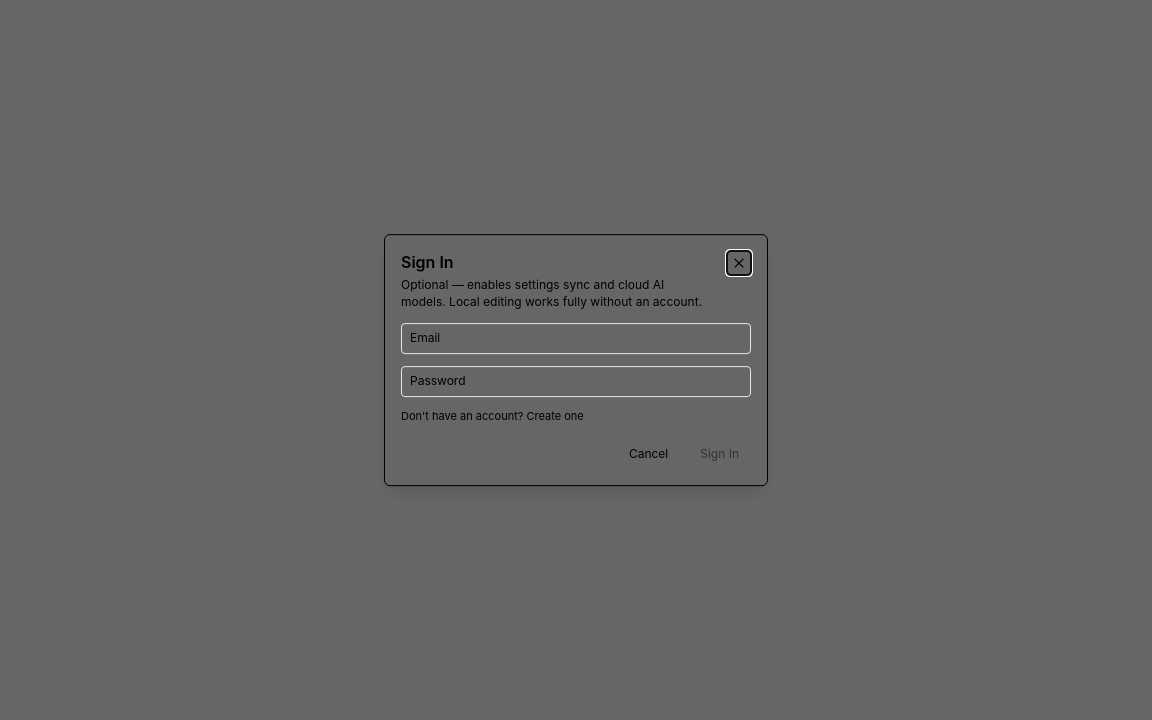
AuthDialog › shows the backend error message and does not close on failed login
In the field with placeholder "Email": (576, 338) [410,330,742,347], type "alice@example.com"
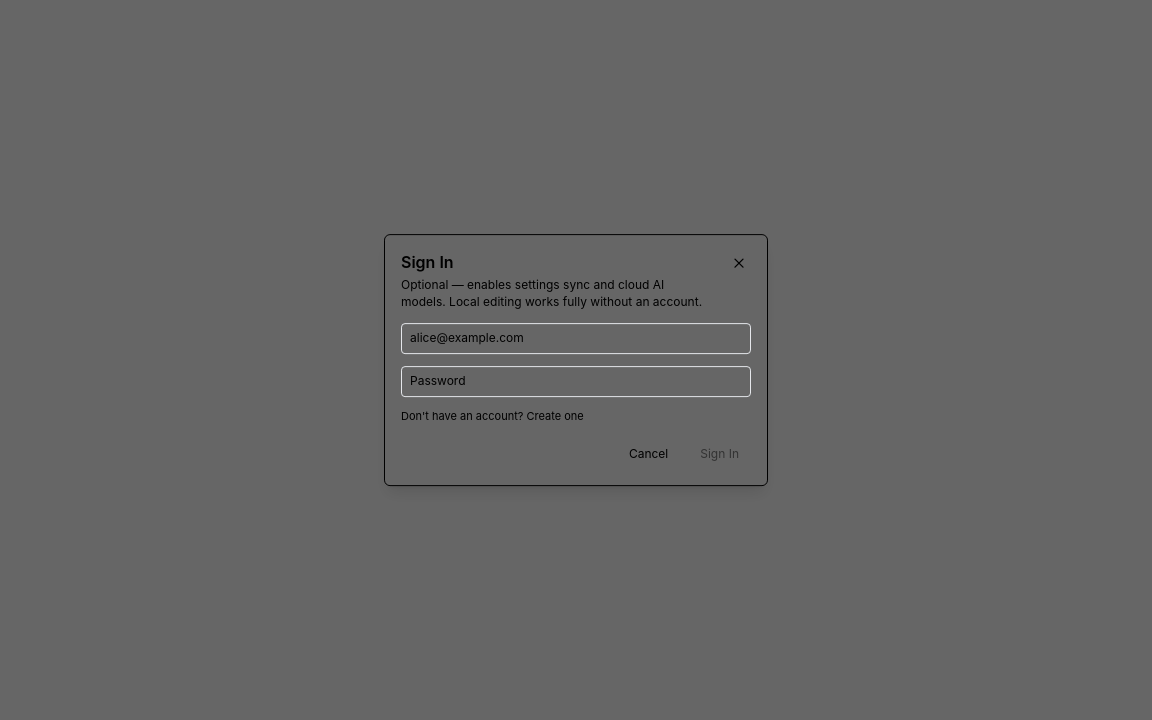
In the password field with placeholder "Password": (576, 381) [410,373,742,390], type "wrong"
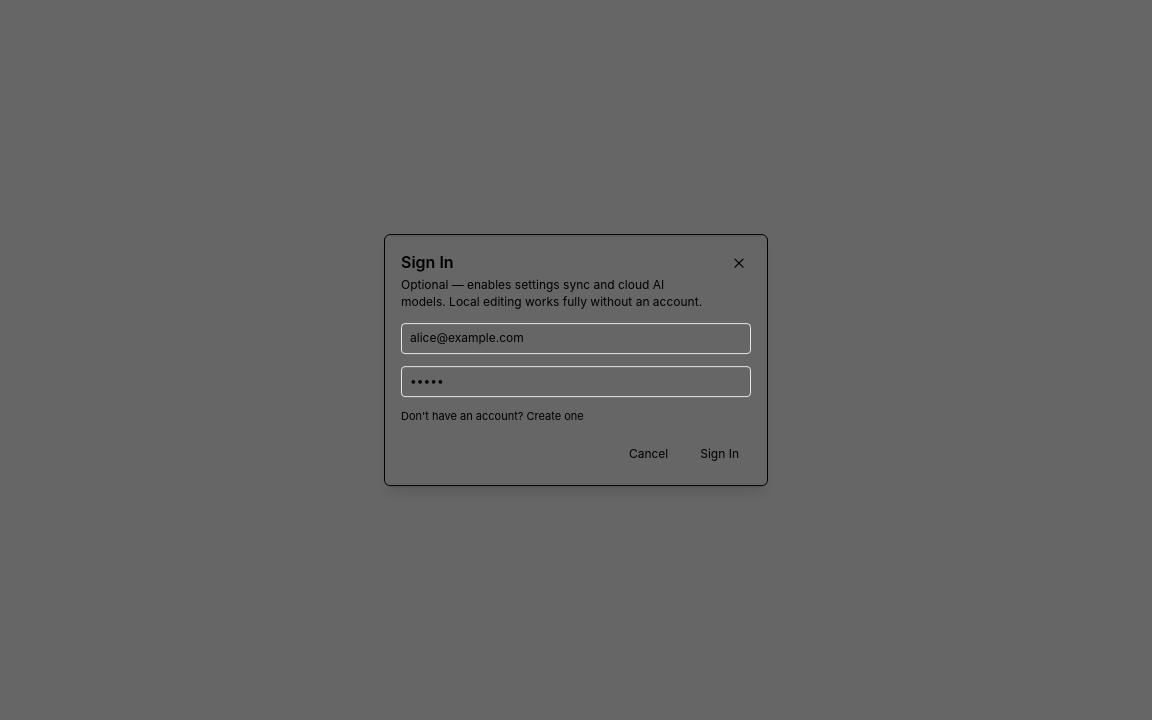
Click the button "Sign In": (720, 454) [688,440,751,469]
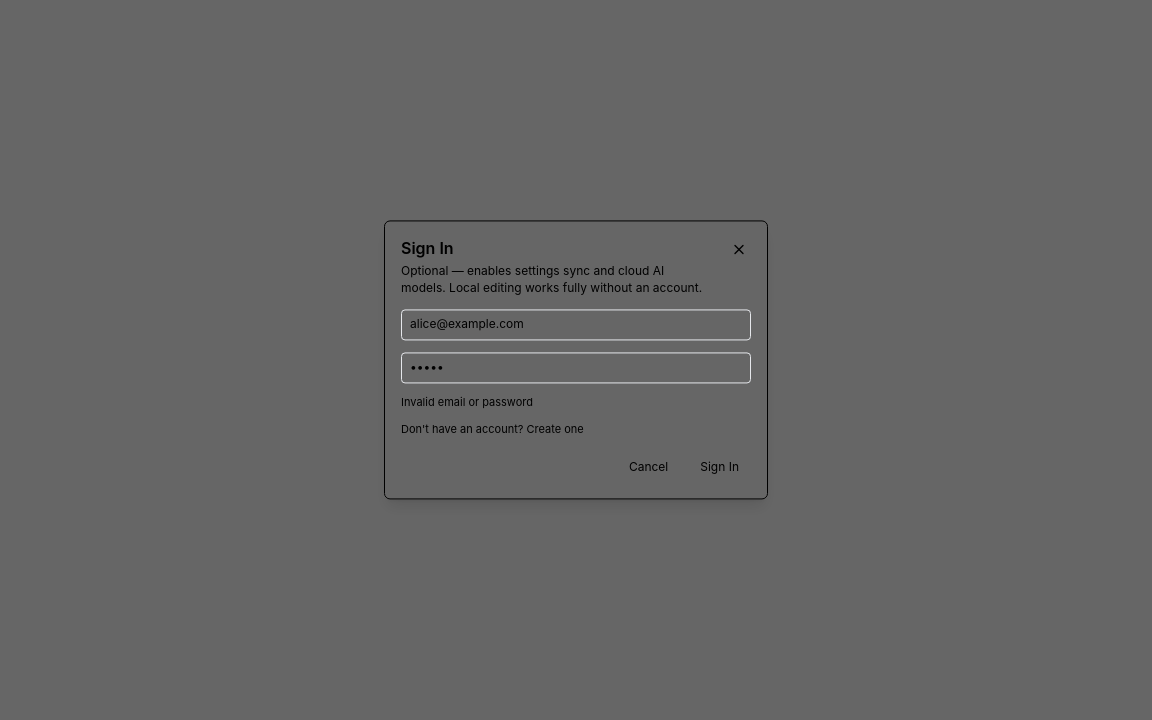
Check: the text "Invalid email or password" is shown, box [401,395,533,409]
